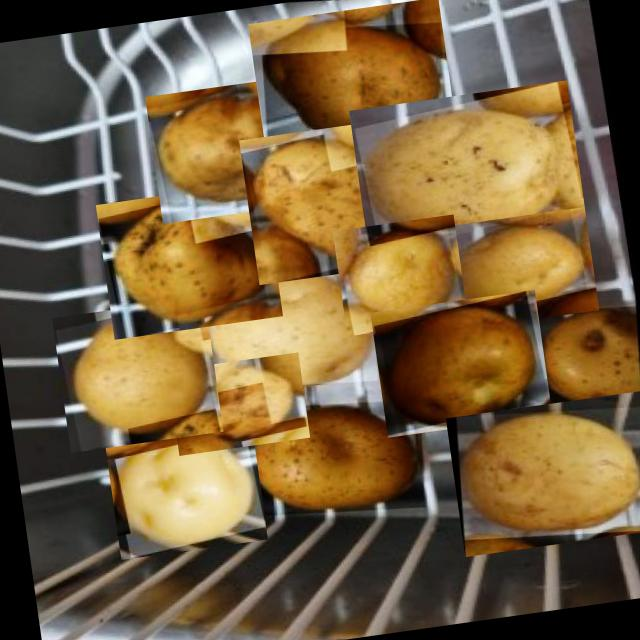Potato: (349, 80, 588, 260), (248, 0, 458, 161), (445, 390, 640, 556), (192, 251, 389, 404), (235, 383, 435, 531), (96, 180, 283, 338), (239, 118, 416, 284), (370, 288, 552, 436), (52, 296, 223, 452), (146, 74, 318, 222), (104, 418, 268, 559), (438, 206, 599, 330), (332, 214, 468, 336), (524, 296, 640, 429), (168, 351, 310, 455)
